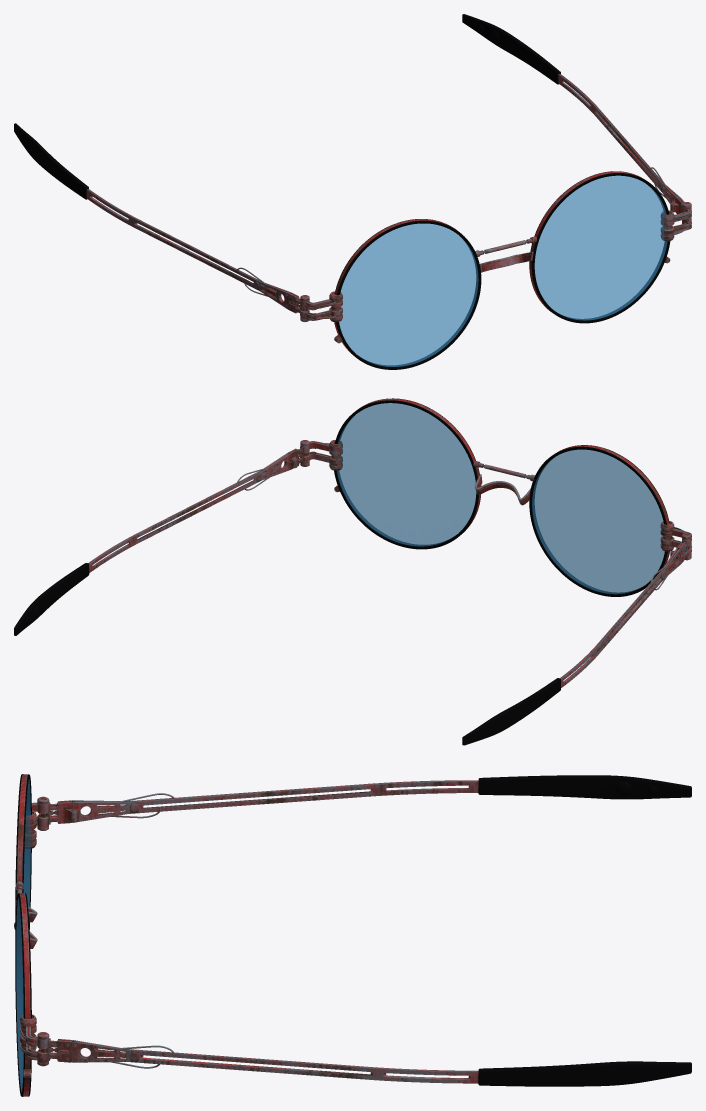
The model's file is glasses-7c.glb.
3 views of the same model, one above another, from view 1: azimuth 30°, elevation 25°; view 2: azimuth 150°, elevation 25°; view 3: azimuth 270°, elevation 25° (orthographic). The views are drawn at different scales.
Visible parts, largest first — view 1: Object_6, Object_3, Object_4, Object_7, Object_5; view 2: Object_6, Object_3, Object_7, Object_4, Object_5; view 3: Object_5, Object_3, Object_4, Object_7, Object_6.
Boxes of the visible parts, x1,y1,x2,y2 form: Object_6: (339,175,667,366); Object_3: (285,74,691,343); Object_4: (86,167,691,355); Object_7: (334,171,670,369); Object_5: (14,14,560,199); Object_6: (337,403,664,594); Object_3: (88,398,691,572); Object_7: (334,398,669,596); Object_4: (237,441,691,687); Object_5: (14,563,560,745); Object_5: (478,775,691,1086); Object_3: (14,796,478,1096); Object_4: (16,774,478,1077); Object_7: (15,774,31,1096); Object_6: (16,779,30,1091).
Size of the model in its own units: 1.57 by 0.4601 by 1.54.
4 materials, 1 textured.
